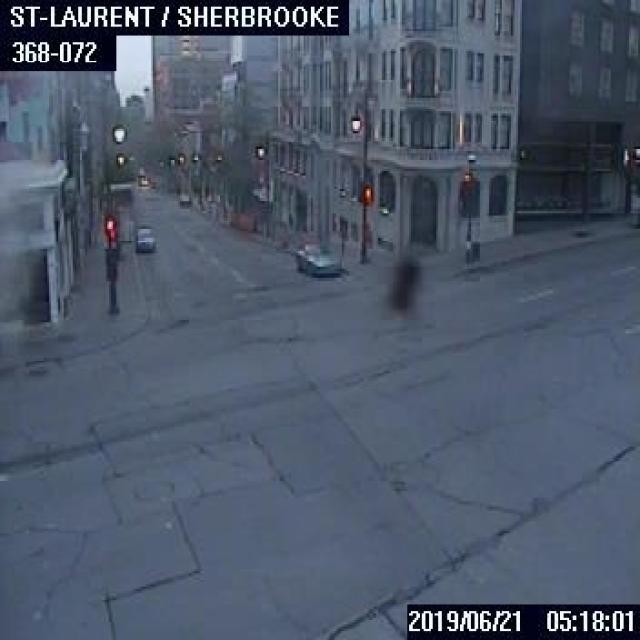vehicle: (293, 240, 338, 273), (134, 227, 152, 249), (176, 193, 188, 204)
